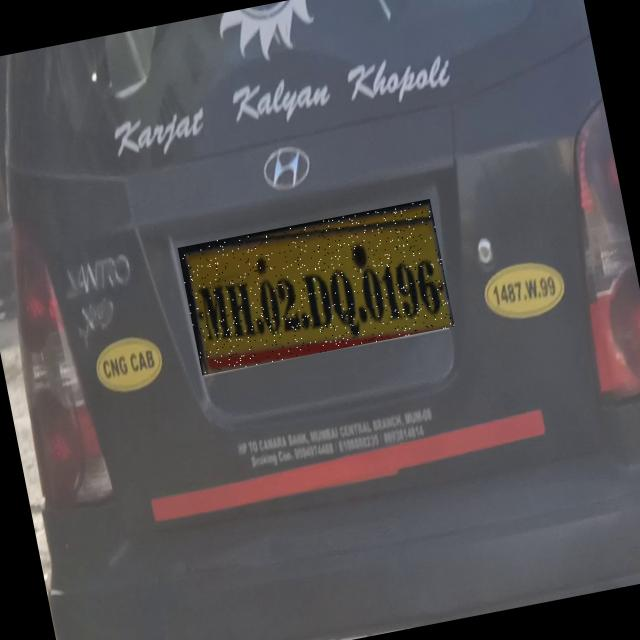Plate: (179, 200, 456, 377)
